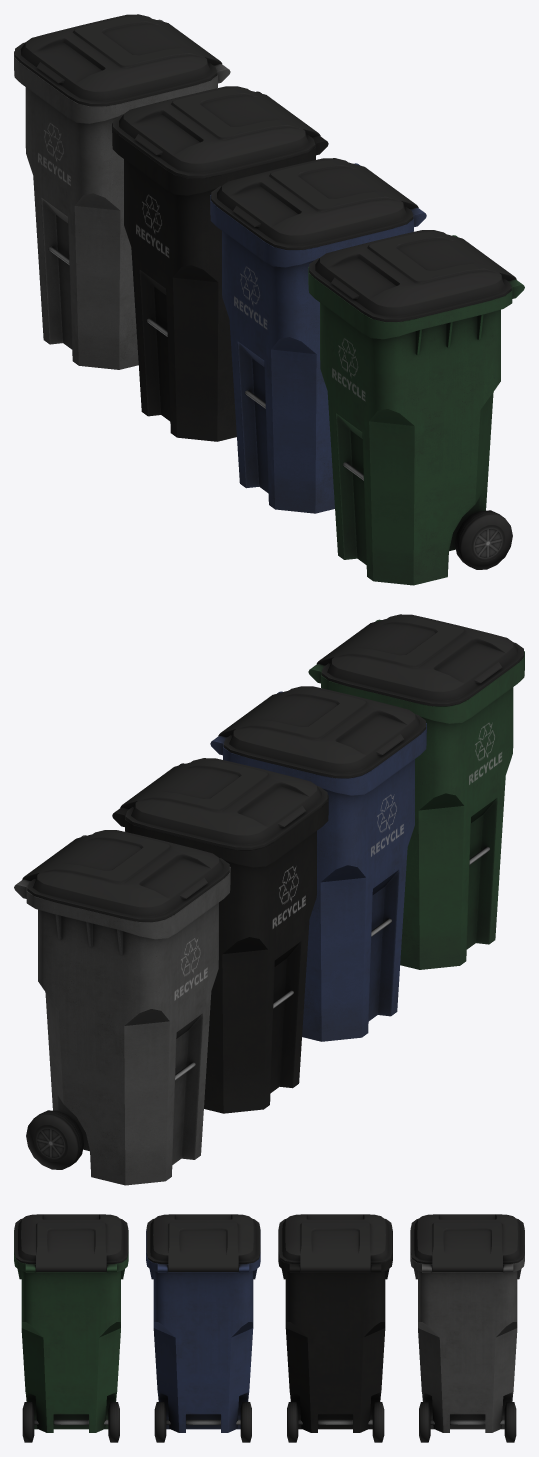
File: trash_can.glb
The picture shows the model from 3 angles, top to bottom: view 1: azimuth 30°, elevation 25°; view 2: azimuth 150°, elevation 25°; view 3: azimuth 270°, elevation 25°; orthographic projection. The views are drawn at different scales.
Parts seen in each view (by area): view 1: TrashCan_Green, TrashCan_Grey, TrashCan_Black, TrashCan_Blue; view 2: TrashCan_Grey, TrashCan_Green, TrashCan_Blue, TrashCan_Black; view 3: TrashCan_Black, TrashCan_Blue, TrashCan_Grey, TrashCan_Green.
Boxes of the visible parts, x1,y1,x2,y2 form: TrashCan_Green: (308,230,524,585); TrashCan_Grey: (14,14,230,369); TrashCan_Black: (112,86,328,441); TrashCan_Blue: (210,158,426,513); TrashCan_Grey: (14,830,230,1185); TrashCan_Green: (308,614,524,969); TrashCan_Blue: (210,686,426,1041); TrashCan_Black: (112,758,328,1113); TrashCan_Black: (278,1214,392,1442); TrashCan_Blue: (146,1214,260,1442); TrashCan_Grey: (410,1214,524,1442); TrashCan_Green: (14,1214,128,1442).
Size of the model in its own units: 60.83 by 113 by 263.
4 materials, 4 textured.
